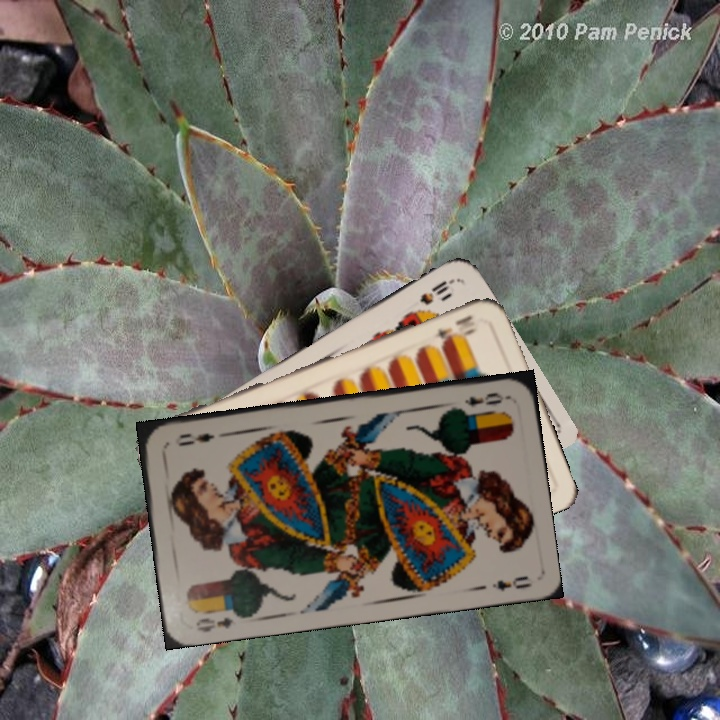E10: (427, 311, 476, 348)
EO: (461, 388, 510, 410), (192, 613, 236, 635)
S10: (415, 274, 458, 308)
